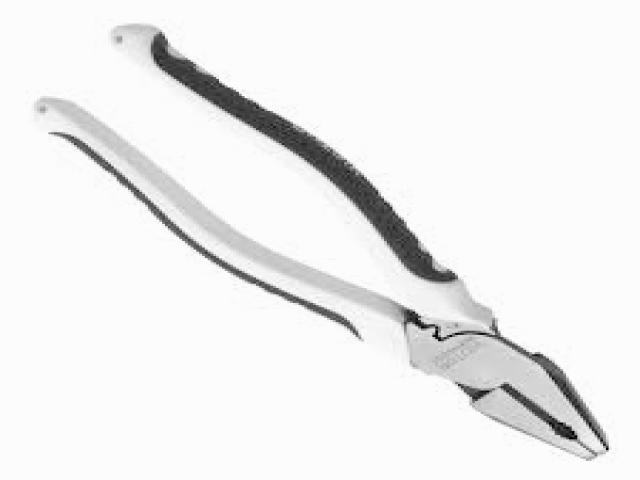Pliers: (36, 26, 604, 459)
